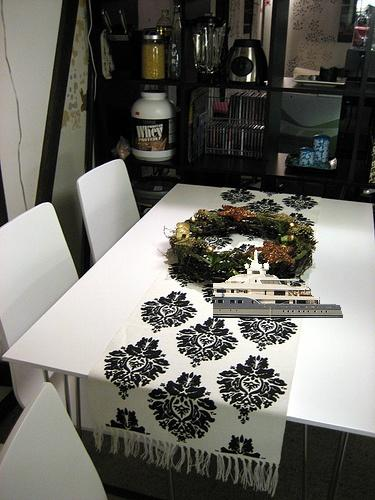tampered: (214, 251, 343, 318)
